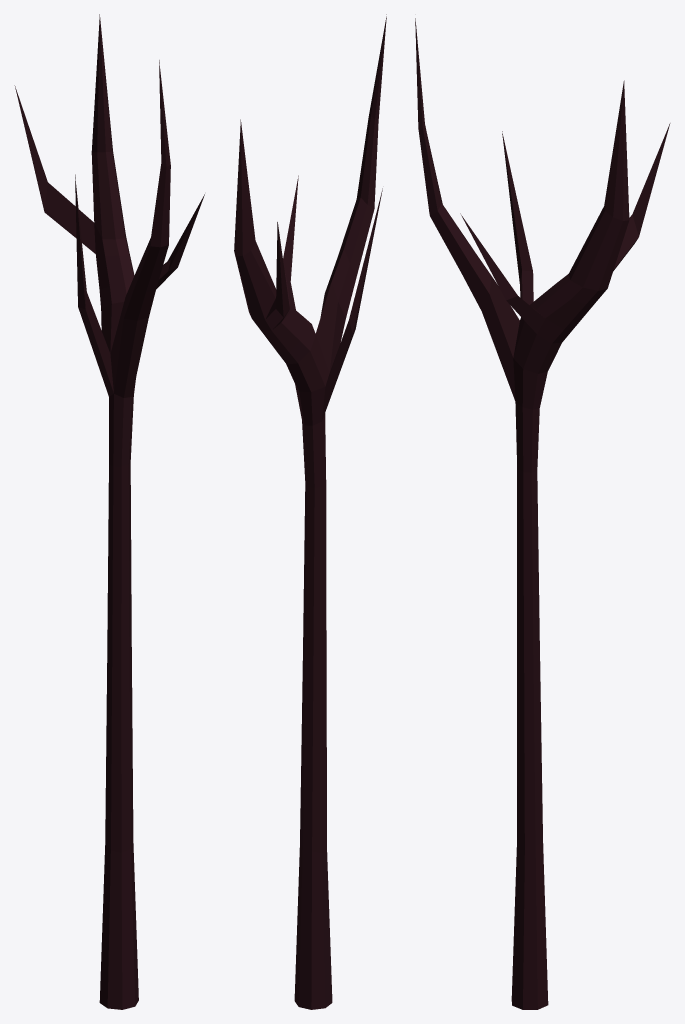
File: DarkTree.fbx
The picture shows the model from 3 angles, left to right: view 1: azimuth 30°, elevation 25°; view 2: azimuth 150°, elevation 25°; view 3: azimuth 270°, elevation 25°; orthographic projection. The views are drawn at different scales.
Parts seen in each view (by area): view 1: Cylinder.021; view 2: Cylinder.021; view 3: Cylinder.021.
Boxes of the visible parts, box(x1,y1,x2,y2) form: Cylinder.021: box(14, 14, 204, 1009); Cylinder.021: box(234, 14, 386, 1009); Cylinder.021: box(415, 18, 670, 1009).
Bounding box in the file's own units: 393 × 3399 × 804.
